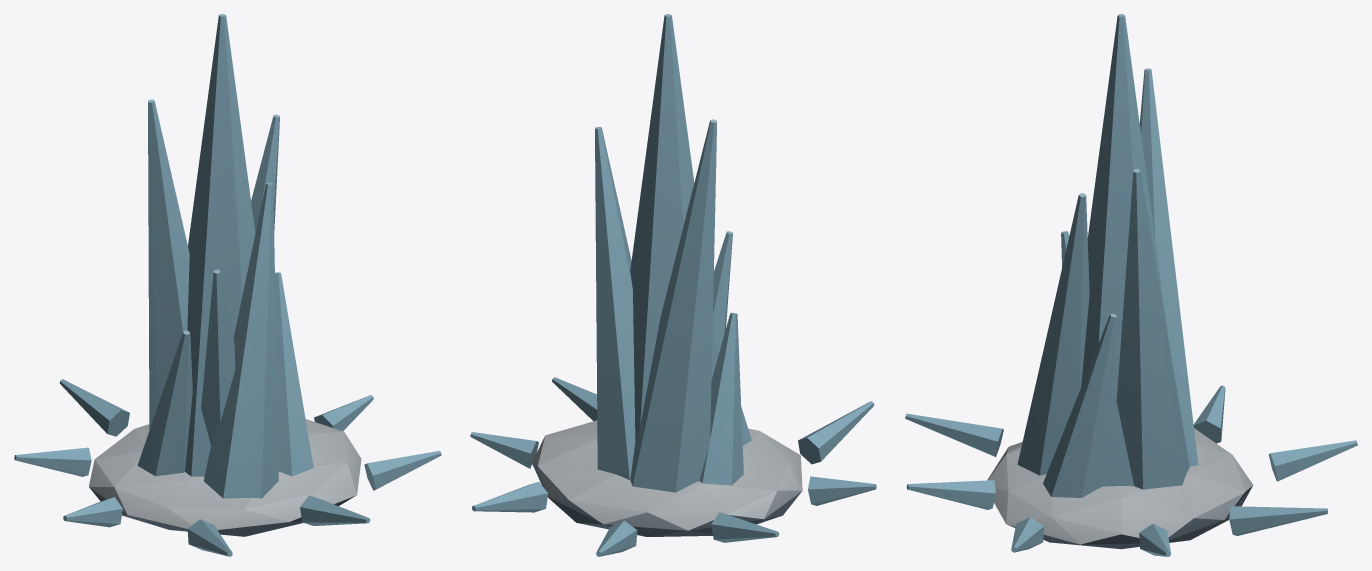
The model's file is landmark_ice.glb.
The picture shows the model from 3 angles, left to right: view 1: azimuth 30°, elevation 25°; view 2: azimuth 150°, elevation 25°; view 3: azimuth 270°, elevation 25°; orthographic projection. The views are drawn at different scales.
Visible parts, largest first — view 1: landmark_ice; view 2: landmark_ice; view 3: landmark_ice.
Part boxes in pixels (x1,y1,x2,y2): landmark_ice: (14, 14, 441, 556); landmark_ice: (470, 14, 876, 556); landmark_ice: (905, 14, 1357, 556).
Size of the model in its own units: 5.61 by 7.14 by 6.03.
